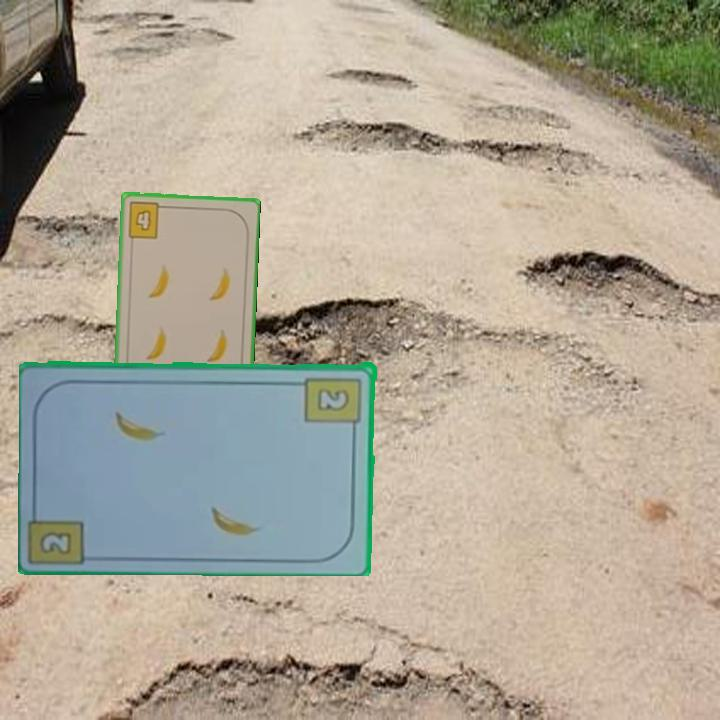2b: (303, 373, 364, 435), (40, 530, 72, 554)
4b: (124, 199, 169, 241)
